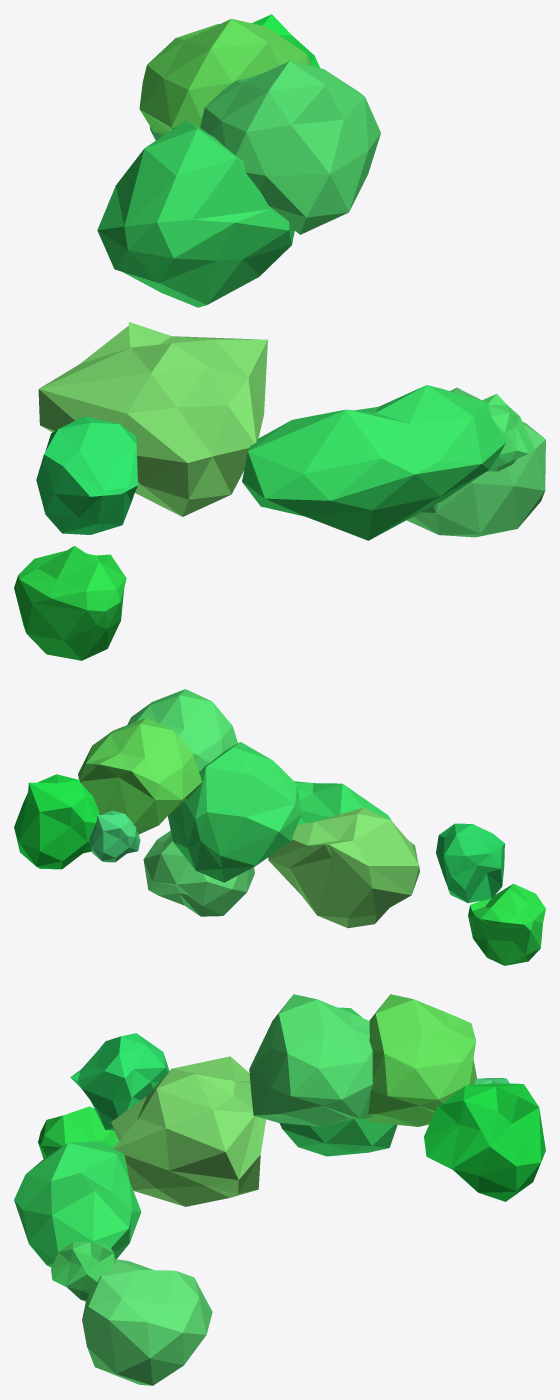
File: low_poly_tree.glb
The picture shows the model from 3 angles, top to bottom: view 1: azimuth 30°, elevation 25°; view 2: azimuth 150°, elevation 25°; view 3: azimuth 270°, elevation 25°; orthographic projection. The views are drawn at different scales.
Parts seen in each view (by area): view 1: Icosphere.005, Icosphere.004, Icosphere.008, Icosphere.007, Icosphere.001, Icosphere.009, Icosphere.010, Icosphere.003, Icosphere.002; view 2: Icosphere.008, Icosphere.005, Icosphere.001, Icosphere, Icosphere.009, Icosphere.003, Icosphere.010, Icosphere.007, Icosphere.004, Icosphere.006; view 3: Icosphere.005, Icosphere.007, Icosphere.003, Icosphere.001, Icosphere.004, Icosphere, Icosphere.010, Icosphere.008, Icosphere.002, Icosphere.009.
Part boxes in pixels (<box>): Icosphere.005: <box>38,322,267,516</box>; Icosphere.004: <box>242,385,505,540</box>; Icosphere.008: <box>97,120,294,307</box>; Icosphere.007: <box>200,61,380,234</box>; Icosphere.001: <box>139,18,311,135</box>; Icosphere.009: <box>14,546,126,660</box>; Icosphere.010: <box>36,416,137,534</box>; Icosphere.003: <box>406,387,545,537</box>; Icosphere.002: <box>482,394,533,471</box>; Icosphere.008: <box>168,742,301,882</box>; Icosphere.005: <box>268,807,419,928</box>; Icosphere.001: <box>78,717,201,834</box>; Icosphere: <box>14,774,99,869</box>; Icosphere.009: <box>468,883,545,965</box>; Icosphere.003: <box>143,831,254,916</box>; Icosphere.010: <box>436,823,504,903</box>; Icosphere.007: <box>127,689,237,772</box>; Icosphere.004: <box>294,781,392,824</box>; Icosphere.006: <box>89,810,140,862</box>; Icosphere.005: <box>111,1056,266,1206</box>; Icosphere.007: <box>249,994,373,1126</box>; Icosphere.003: <box>82,1259,212,1385</box>; Icosphere.001: <box>362,994,477,1126</box>; Icosphere.004: <box>14,1141,141,1267</box>; Icosphere: <box>424,1083,545,1201</box>; Icosphere.010: <box>70,1033,169,1130</box>; Icosphere.008: <box>279,1007,397,1156</box>; Icosphere.002: <box>51,1241,115,1301</box>; Icosphere.009: <box>38,1106,118,1158</box>.
Bounding box in the file's own units: 8.43 × 6.13 × 8.54.
